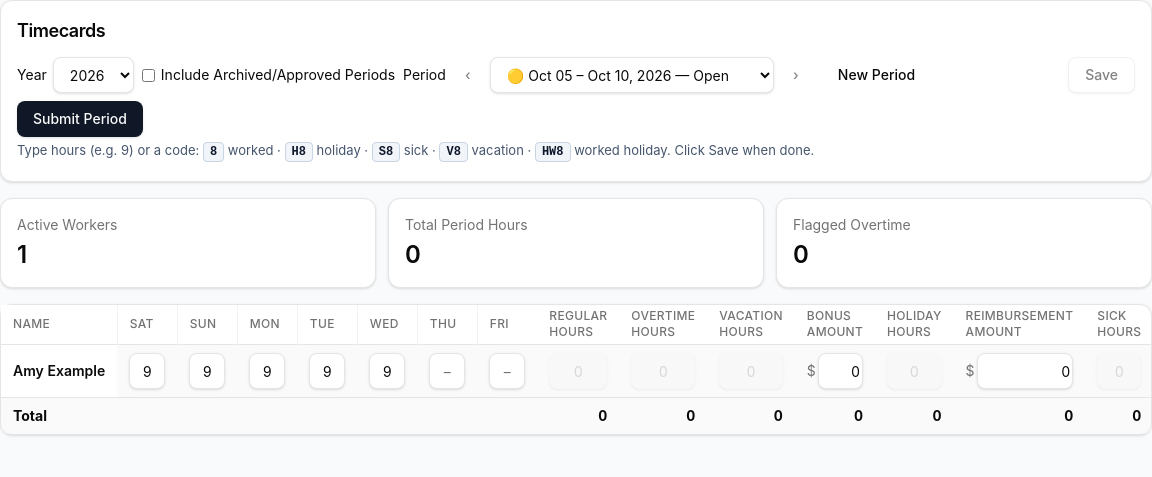
Test case: TimecardPage (Stage A) › exempt employee previews no OT
expect the text "Amy Example" is shown: met, box left=1, top=344, right=117, bottom=398
Replace the text in the field named "day-1-2026-10-09" with "8". click: (387, 371)
box: left=369, top=353, right=405, bottom=389
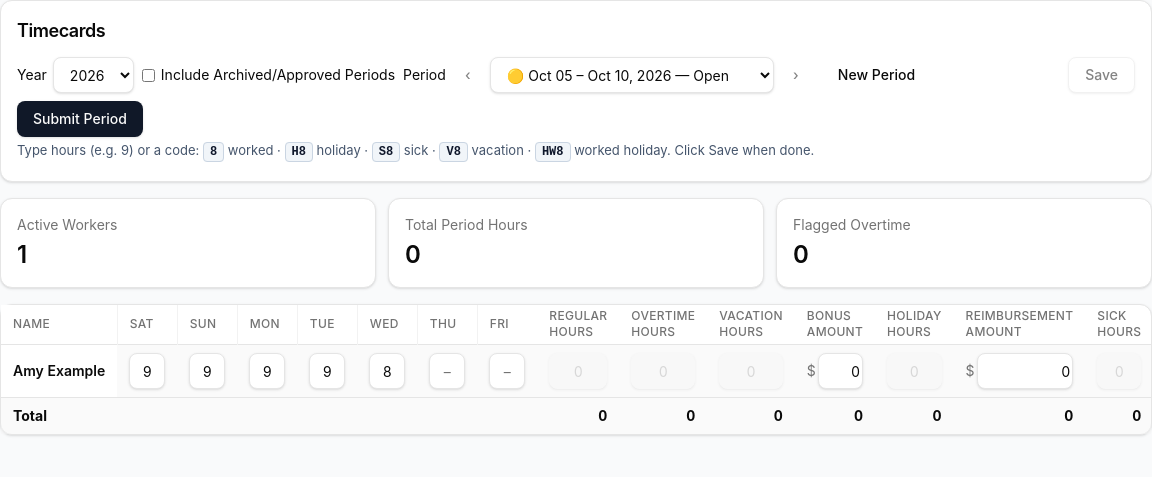
Press Enter in the field named "day-1-2026-10-09", box left=369, top=353, right=405, bottom=389
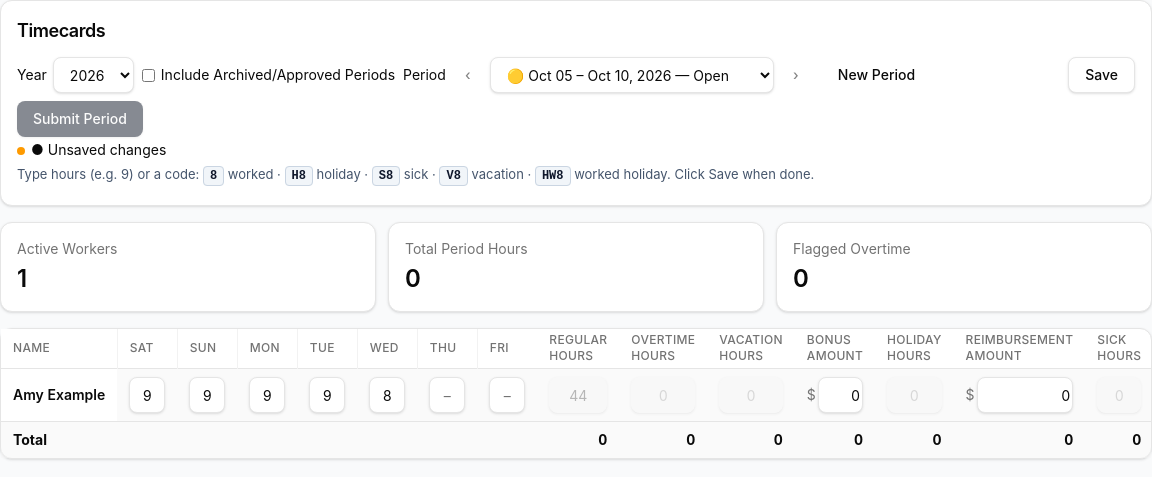
expect the field named "ot-1" holds "0": met, box left=631, top=377, right=695, bottom=413
expect the field named "reg-1" holds "44": met, box left=549, top=377, right=607, bottom=413
